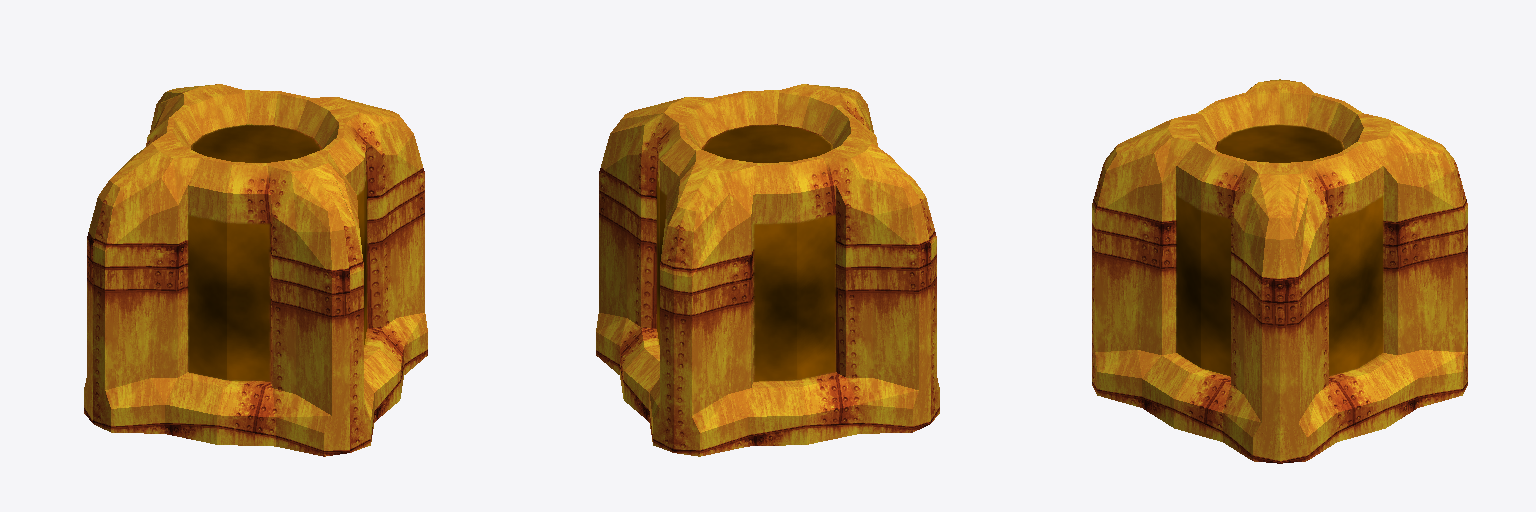
The picture shows the model from 3 angles: view 1: azimuth 30°, elevation 25°; view 2: azimuth 150°, elevation 25°; view 3: azimuth 270°, elevation 25°; orthographic projection.
Parts seen in each view (by area): view 1: base; view 2: base; view 3: base.
Boxes of the visible parts, <box> form: base: <box>84,84,427,456</box>; base: <box>596,84,939,456</box>; base: <box>1092,79,1467,463</box>.
Size of the model in its own units: 15.95 by 11.97 by 15.95.
1 materials, 1 textured.